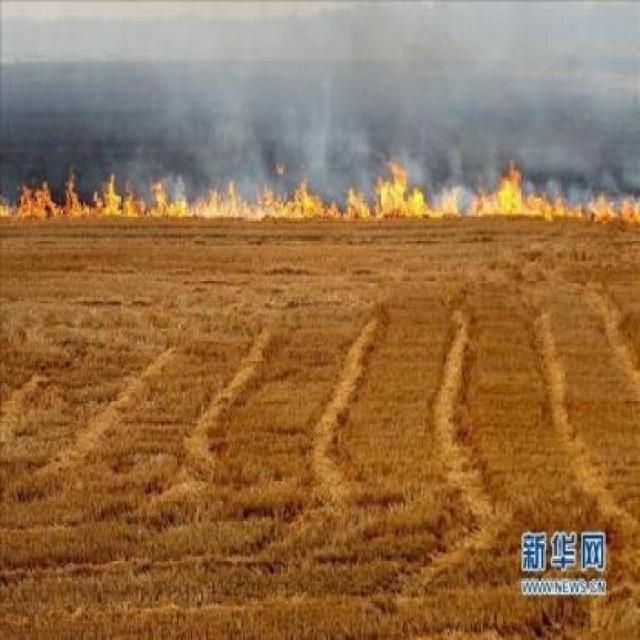Fire: (8, 145, 640, 227)
Smoke: (10, 4, 640, 141)
